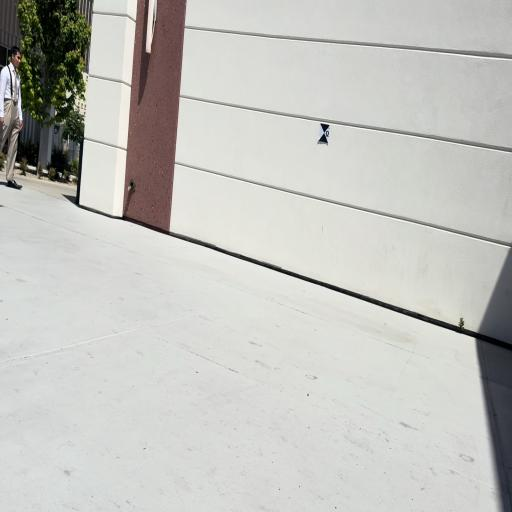target0: (318, 122, 330, 144)
